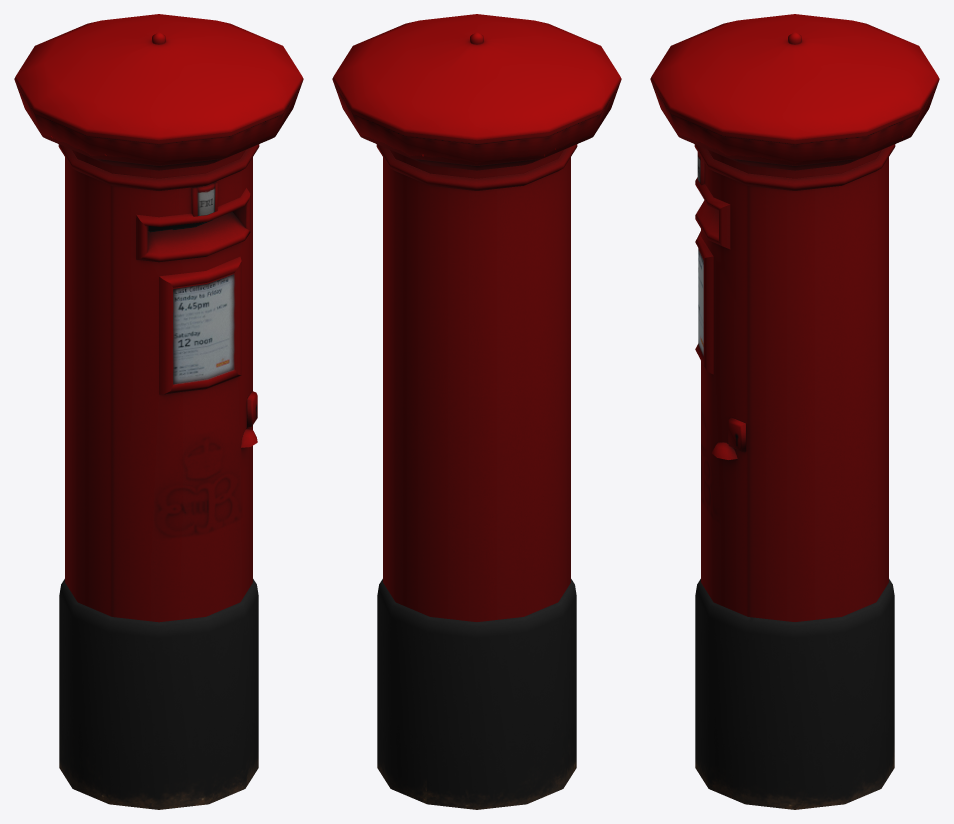
Rendered from UK_PostBox.FBX.
3 views of the same model, side by side, from view 1: azimuth 30°, elevation 25°; view 2: azimuth 150°, elevation 25°; view 3: azimuth 270°, elevation 25° (orthographic).
Parts seen in each view (by area): view 1: headusOBJexport; view 2: headusOBJexport; view 3: headusOBJexport.
Boxes of the visible parts, left/top/right/bottom form: headusOBJexport: left=14, top=14, right=303, bottom=809; headusOBJexport: left=332, top=14, right=621, bottom=809; headusOBJexport: left=650, top=14, right=939, bottom=809.
Bounding box in the file's own units: 0.6565 × 1.84 × 0.6565.
1 material, 1 textured.
